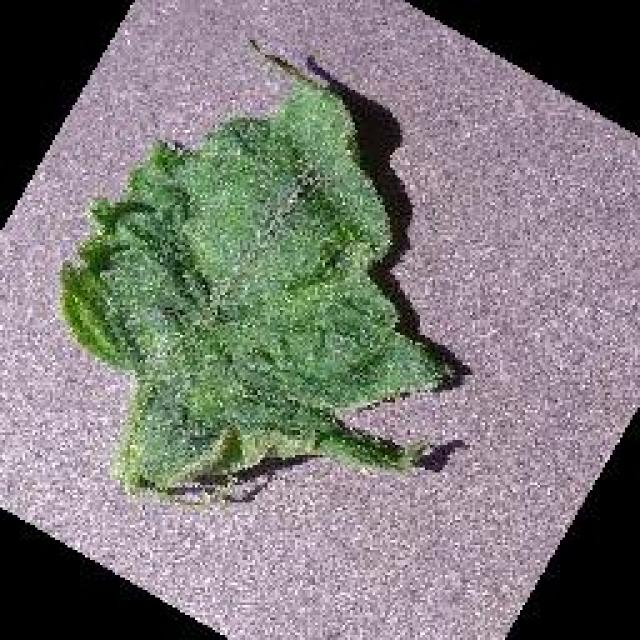Tomato___Tomato_mosaic_virus: (62, 40, 448, 495)
